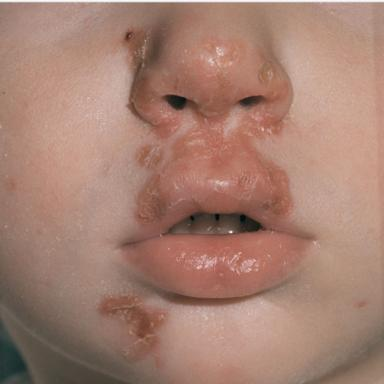Impetigo: (170, 37, 293, 222), (98, 295, 166, 361), (132, 83, 179, 137), (125, 29, 156, 75), (138, 175, 166, 223), (137, 145, 163, 168), (258, 61, 274, 84)
